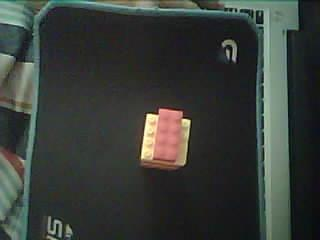lego: (140, 108, 191, 170)
